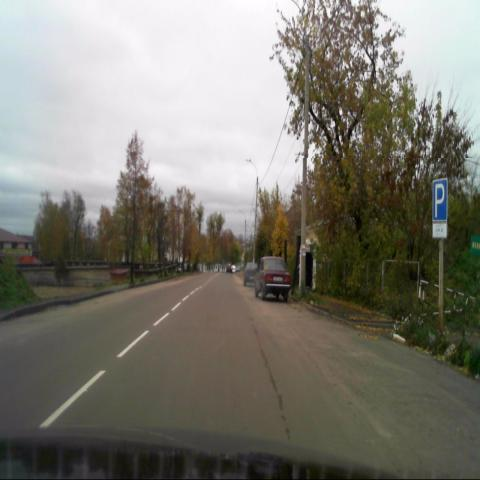6_4: (433, 178, 446, 222)
8_8: (432, 223, 448, 239)
